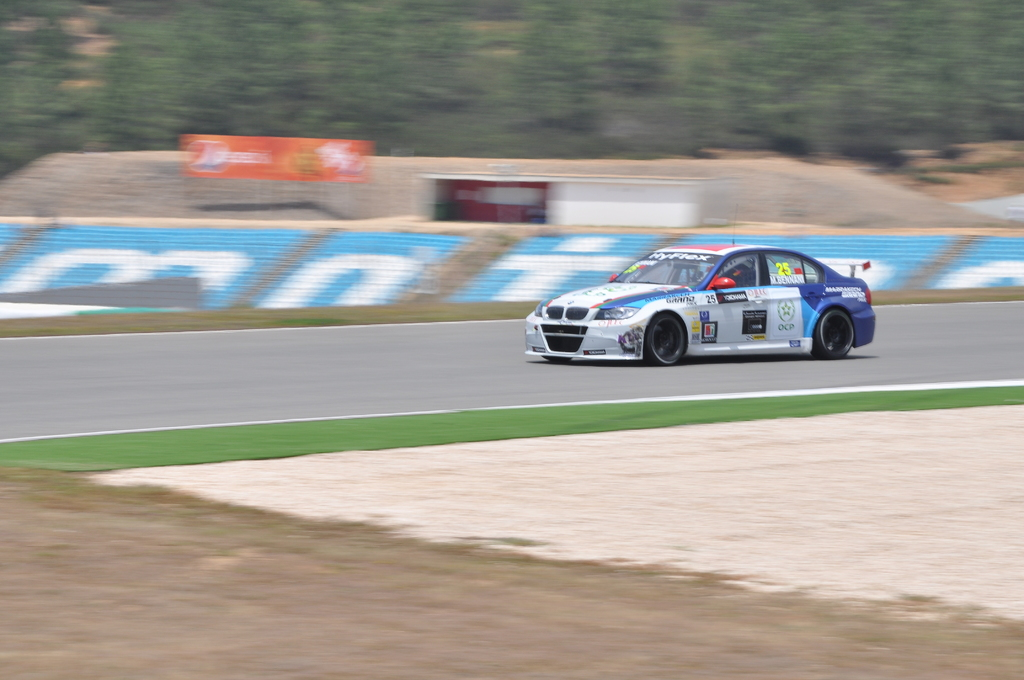Car: (520, 238, 874, 364)
